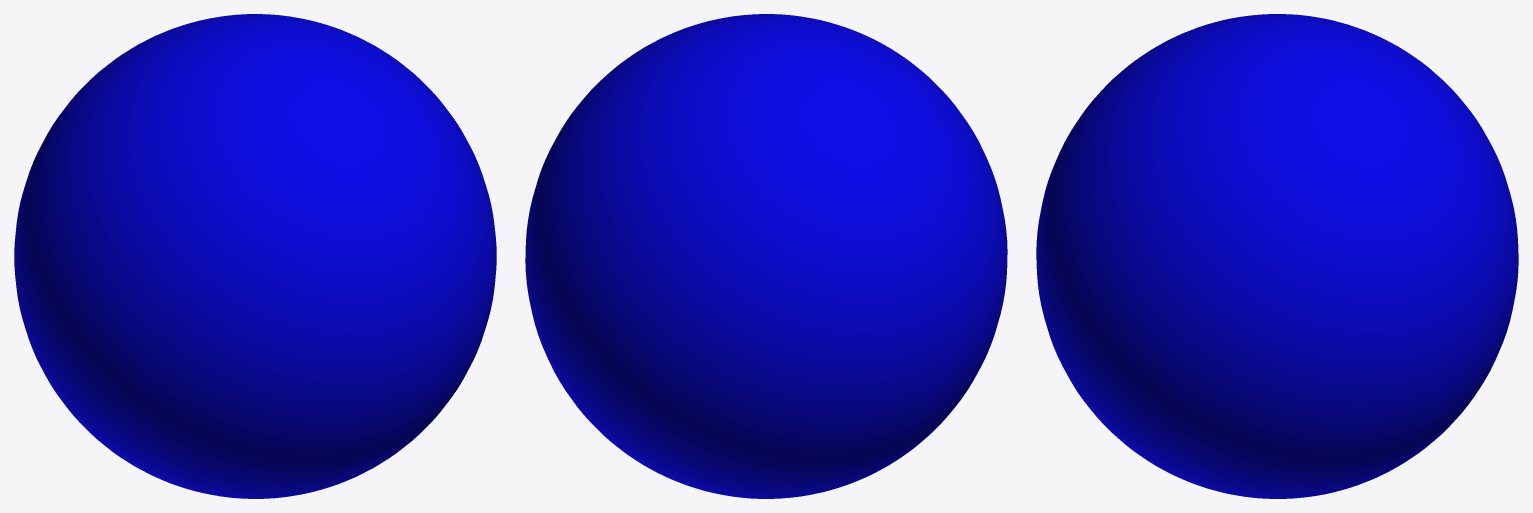
The model's file is PelotaDerHidro.fbx.
3 views of the same model, side by side, from view 1: azimuth 30°, elevation 25°; view 2: azimuth 150°, elevation 25°; view 3: azimuth 270°, elevation 25° (orthographic).
Visible parts, largest first — view 1: Mesh.002; view 2: Mesh.002; view 3: Mesh.002.
Boxes of the visible parts, x1,y1,x2,y2 form: Mesh.002: (14, 14, 496, 498); Mesh.002: (525, 14, 1007, 498); Mesh.002: (1036, 14, 1518, 498).
Bounding box in the file's own units: 280 × 282 × 280.
